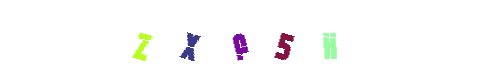5: (244, 0, 324, 80)
F: (207, 0, 287, 80)
H: (261, 0, 341, 80)
X: (177, 0, 257, 80)
Z: (102, 0, 182, 80)
